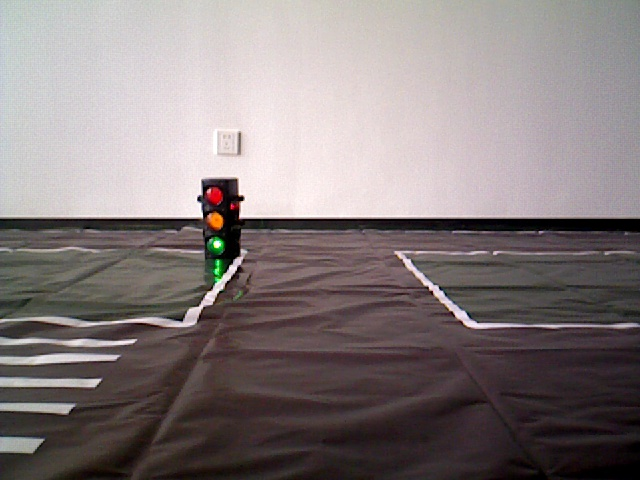green: (202, 181, 235, 255)
